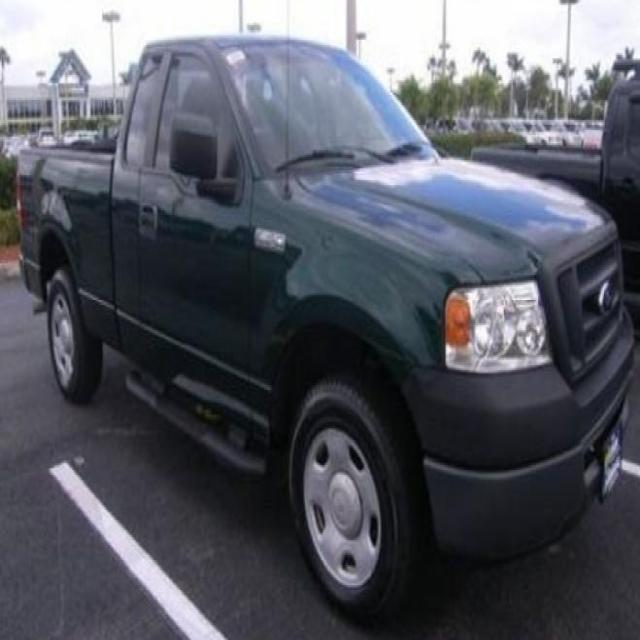CMT: (32, 27, 640, 604)
